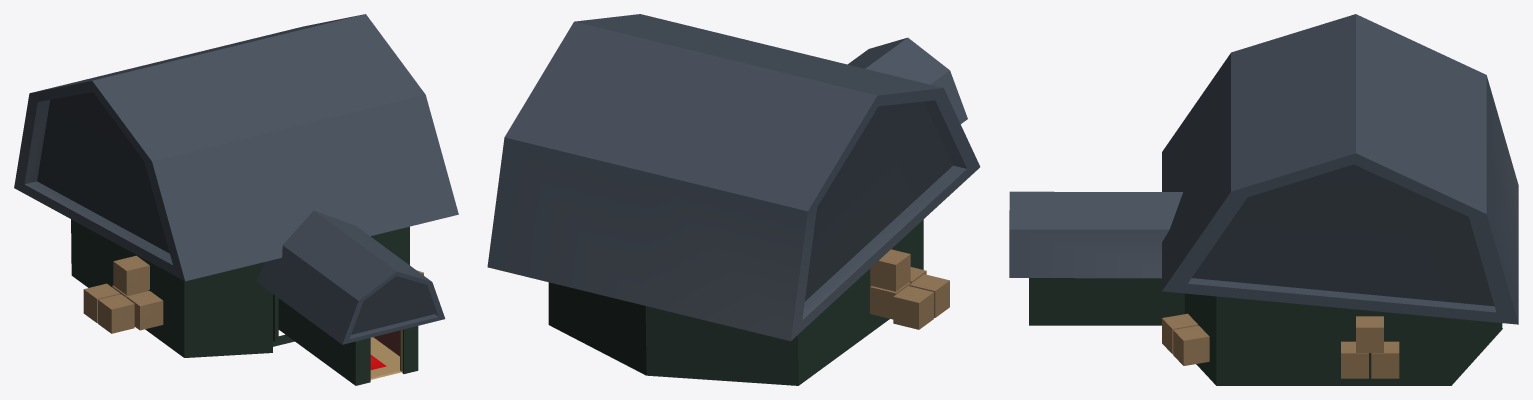
The model's file is SalaInLOD.fbx.
The picture shows the model from 3 angles, left to right: view 1: azimuth 30°, elevation 25°; view 2: azimuth 150°, elevation 25°; view 3: azimuth 270°, elevation 25°; orthographic projection. The views are drawn at different scales.
Visible parts, largest first — view 1: Sala_LOD0; view 2: Sala_LOD0; view 3: Sala_LOD0.
Boxes of the visible parts, bbox=[...] form: Sala_LOD0: bbox=[14, 14, 458, 385]; Sala_LOD0: bbox=[487, 14, 980, 385]; Sala_LOD0: bbox=[1009, 14, 1518, 385].
Size of what is drawn, in the model's own units: 1651 by 1253 by 2354.
